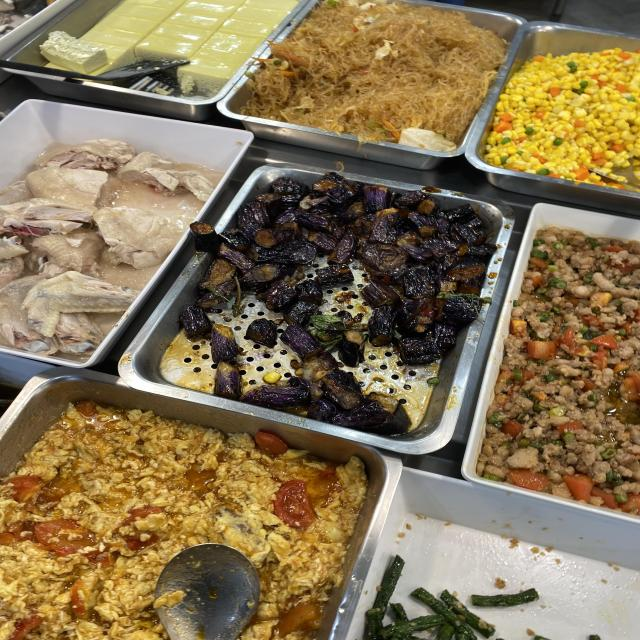Ants climbing the tree: (318, 21, 460, 118)
Scramble Egg with Tomatoes: (33, 459, 326, 534)
eggplant: (260, 202, 463, 258)
steamed egg: (134, 3, 246, 52)
